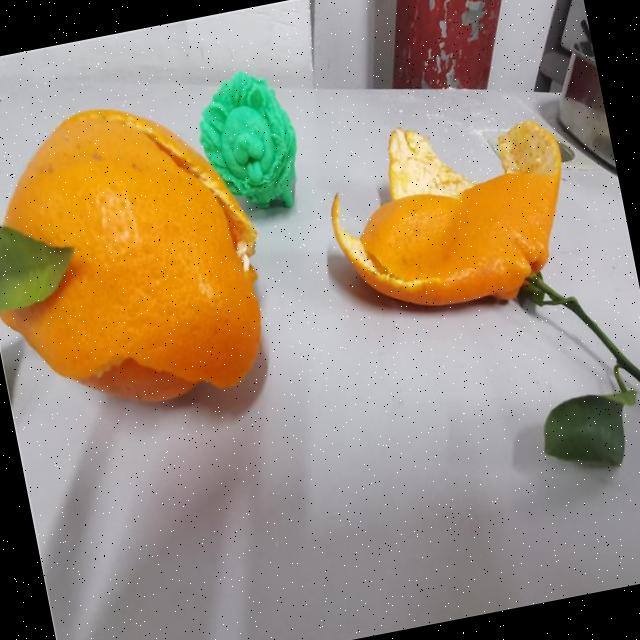orange-peel: (0, 81, 285, 431)
